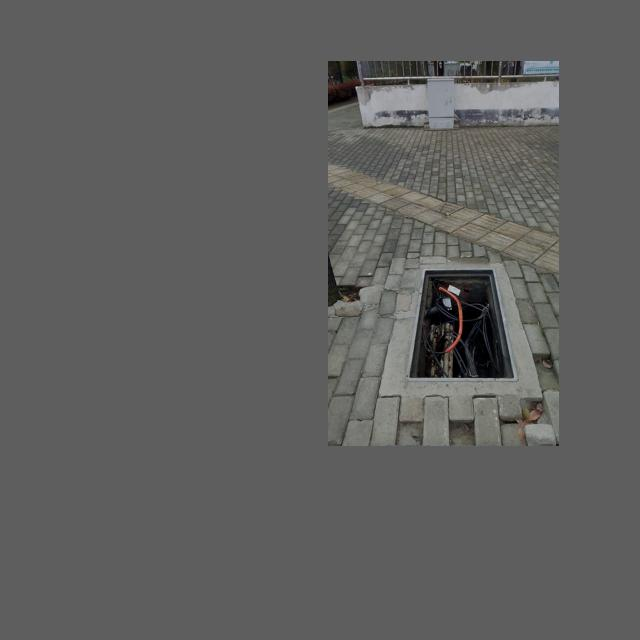lose: (409, 254, 517, 385)
